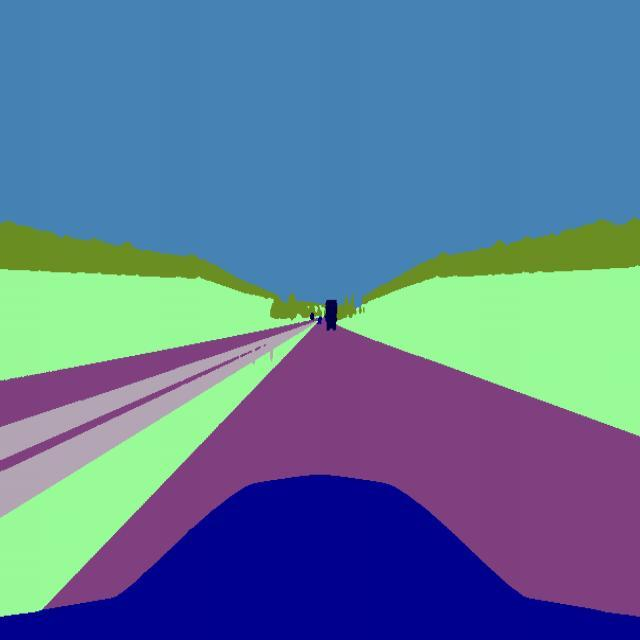safe: (324, 294, 338, 334)
